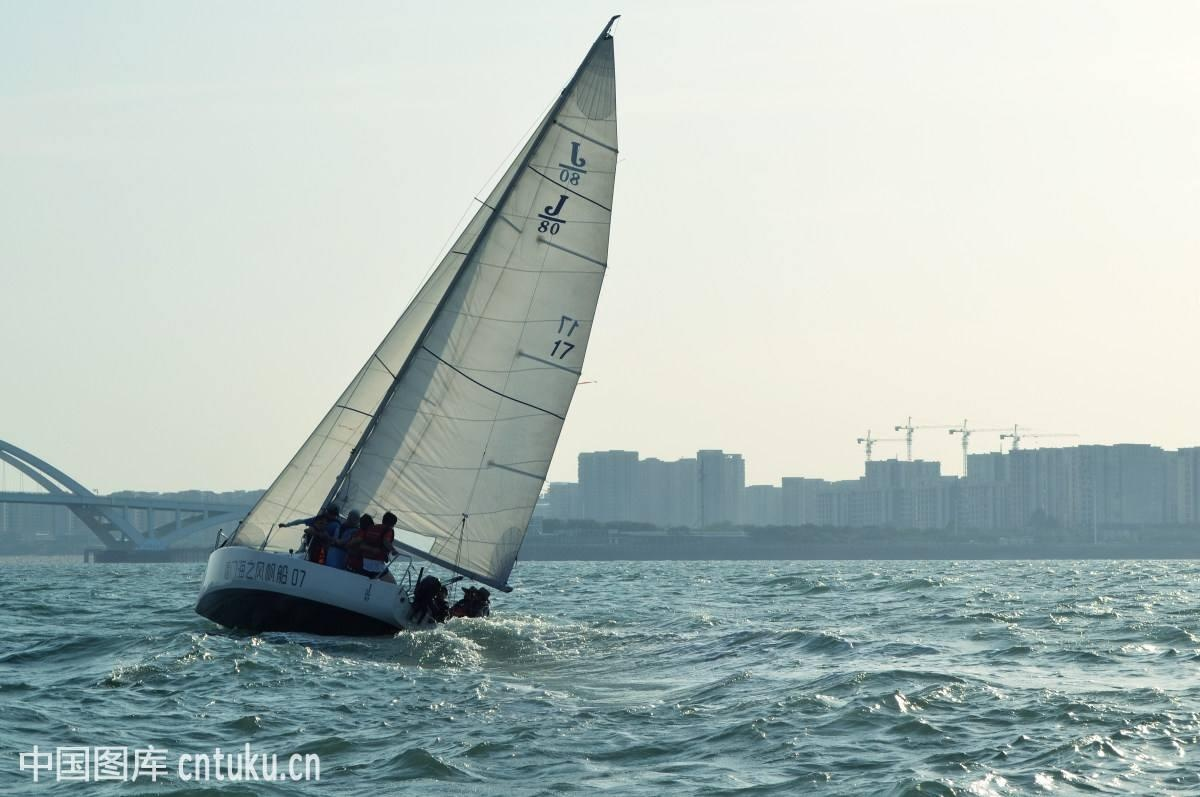fanchuan: (193, 4, 661, 637)
